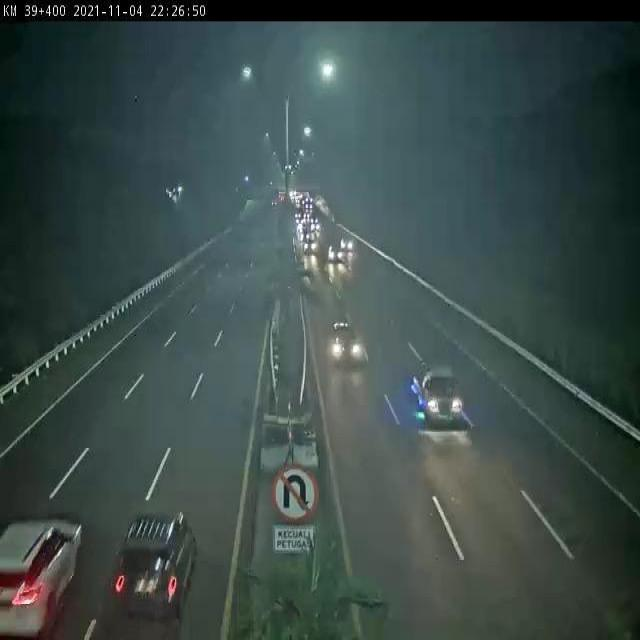car: (1, 516, 81, 640), (111, 515, 199, 616), (326, 316, 362, 364)
truck-s-: (412, 360, 464, 427)
